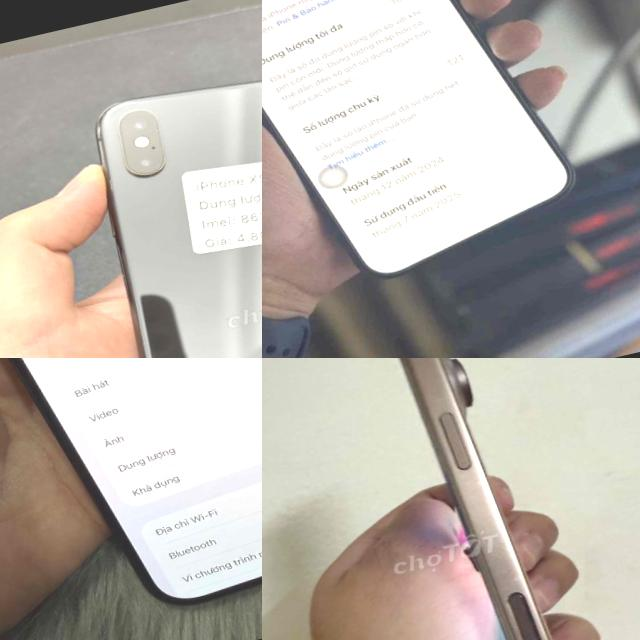gen_15: (0, 358, 262, 636)
gen_16: (262, 0, 569, 274), (344, 358, 633, 640)
gen_x_xs: (95, 80, 262, 358), (94, 164, 132, 198)
